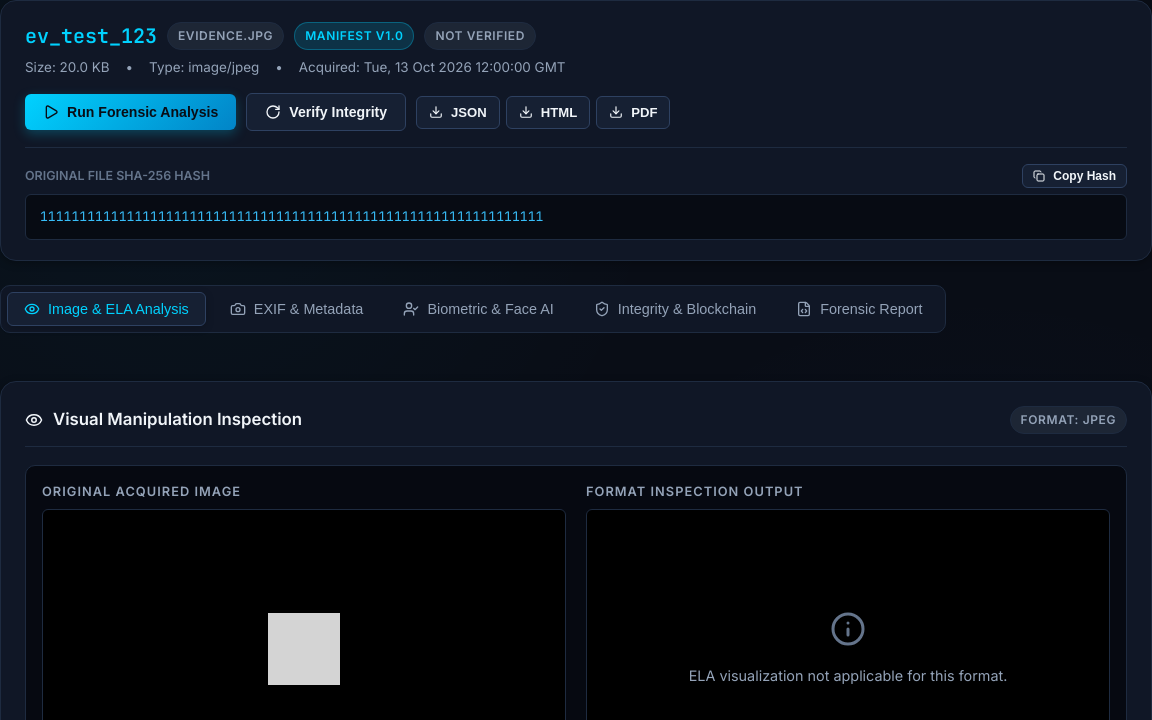
Test: Integrity Display & Visual Indicators › renders red badge when manifest digest is mismatched
Click the button "Verify Integrity".
click(326, 112)  # box x1=246 y1=93 x2=406 y2=131
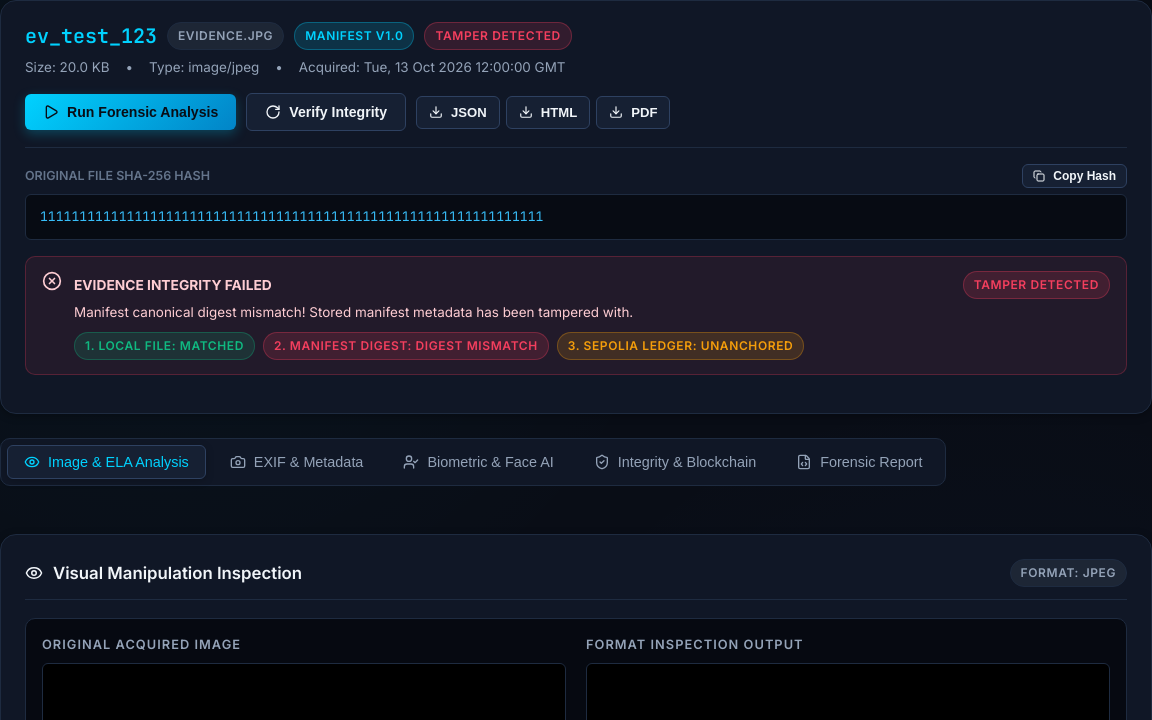
Expected: the text "Manifest canonical digest mismatch" is shown, x1=74 y1=304 x2=633 y2=320
